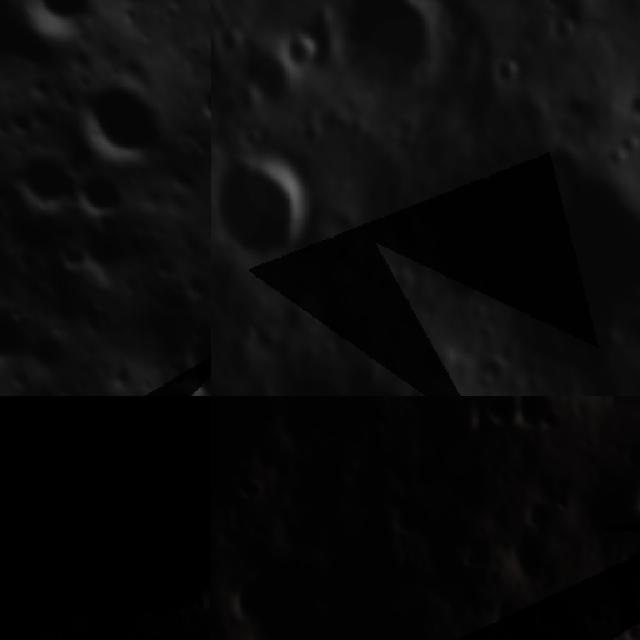crater: (0, 396, 211, 629), (435, 134, 640, 325), (62, 59, 182, 182), (211, 154, 326, 270), (335, 0, 452, 105), (52, 194, 152, 294), (0, 138, 82, 222), (0, 184, 76, 273), (0, 0, 104, 53), (158, 294, 211, 396), (59, 159, 132, 233), (238, 44, 304, 118), (0, 290, 49, 379), (429, 253, 492, 315), (0, 83, 27, 205), (498, 528, 552, 588), (506, 396, 564, 443), (379, 201, 428, 255), (175, 69, 211, 138), (278, 26, 327, 76), (474, 396, 525, 439), (542, 12, 589, 56), (519, 495, 563, 540), (490, 51, 532, 97), (227, 469, 272, 510), (189, 174, 211, 246), (503, 619, 558, 640), (623, 466, 640, 526), (622, 84, 640, 120), (617, 130, 640, 156), (538, 0, 574, 13), (406, 382, 435, 396)
